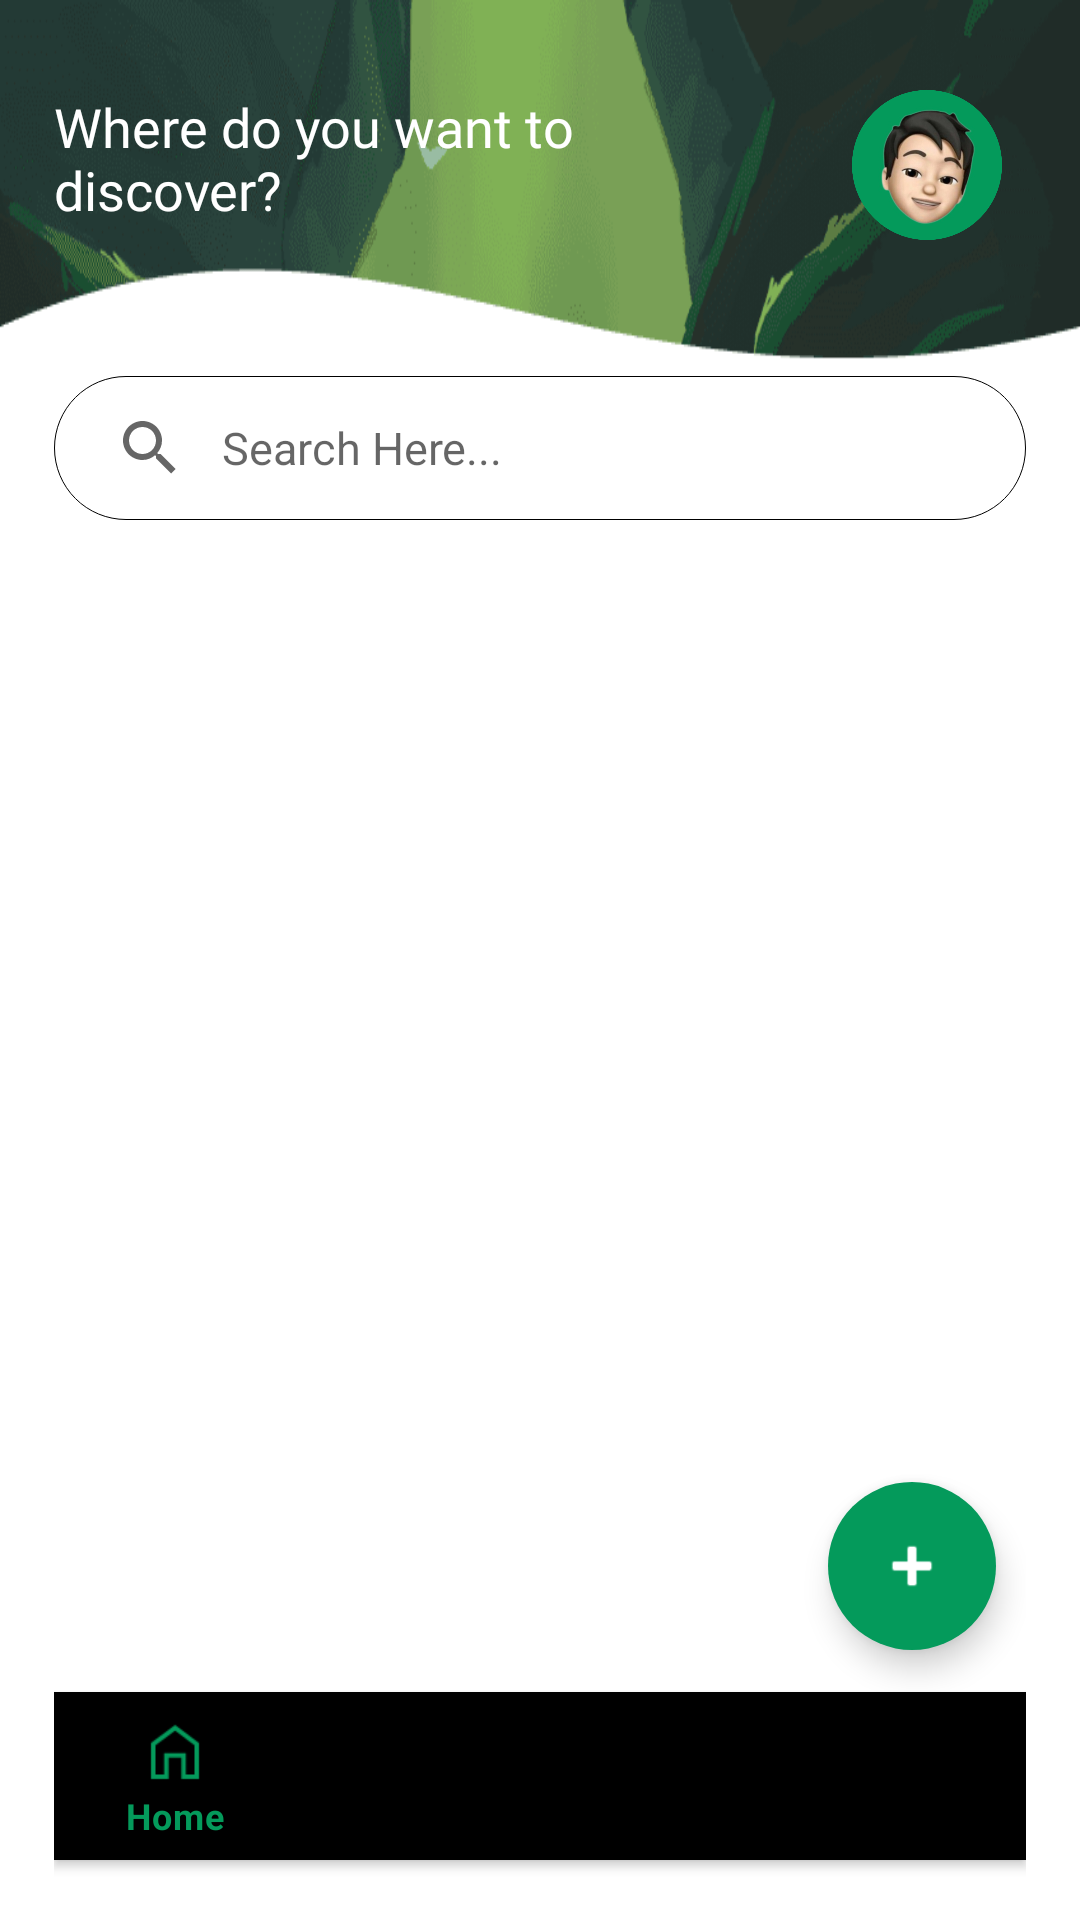

Named icons in this screenshot (1080x1920) and their centers, point (x, y):
add: point (912, 1566)
user moji: point (927, 165)
